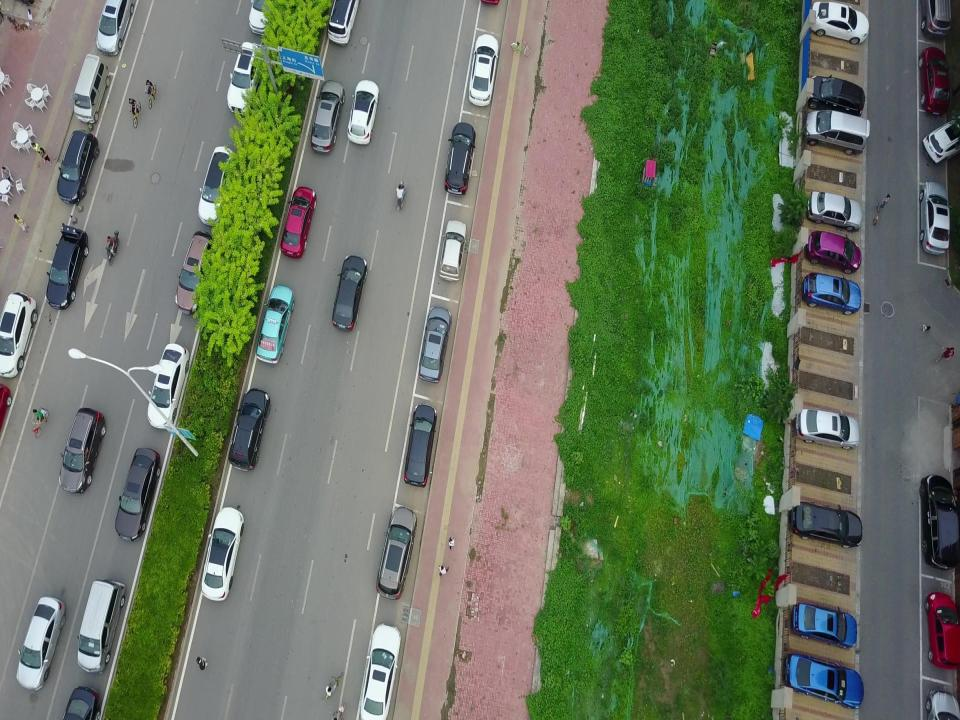car: (16, 596, 66, 691), (114, 448, 160, 542), (786, 653, 864, 708), (58, 408, 106, 494), (201, 507, 244, 600), (360, 624, 400, 720), (376, 506, 416, 600), (228, 387, 270, 471), (920, 473, 956, 570), (46, 226, 88, 309), (788, 501, 862, 548), (0, 292, 38, 378), (56, 130, 100, 204), (792, 602, 856, 650), (256, 286, 294, 364), (923, 591, 960, 669), (331, 255, 367, 330), (795, 408, 859, 450), (404, 404, 436, 487), (807, 74, 865, 119), (280, 186, 316, 258), (310, 80, 345, 154), (811, 1, 869, 45), (918, 181, 952, 255), (419, 305, 451, 383), (803, 272, 861, 315), (806, 230, 862, 273), (468, 33, 500, 108), (444, 121, 475, 197), (95, 0, 137, 55), (806, 191, 862, 231), (918, 47, 950, 116), (347, 80, 379, 145), (438, 220, 466, 281), (922, 118, 958, 164), (327, 0, 360, 45), (249, 0, 277, 35)
van: (77, 578, 125, 673), (804, 110, 870, 154), (74, 53, 110, 124), (921, 0, 951, 39)
